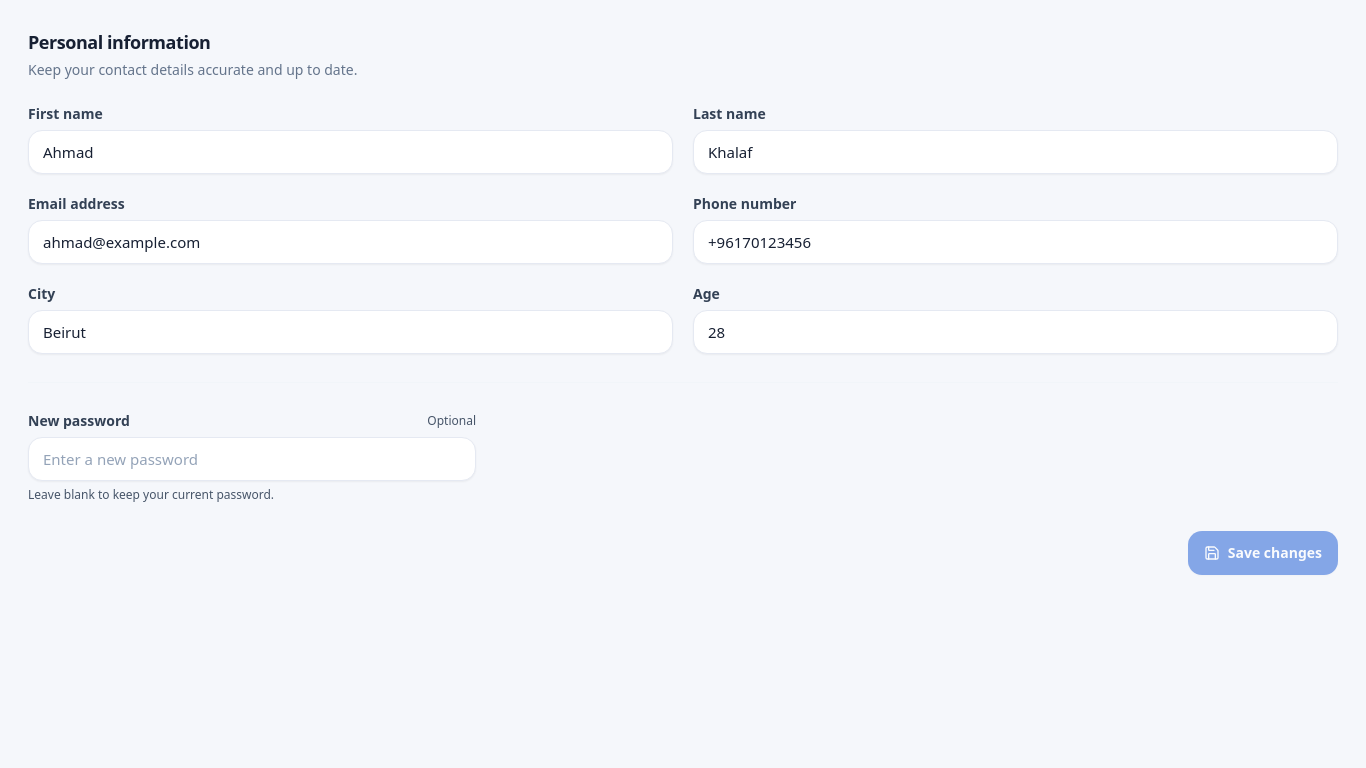
Scenario: ProfileForm › loads user values, enables only when dirty, and omits a blank password
This screenshot has width=1366, height=768.
Expected: the button "Save changes" is disabled, left=1188, top=531, right=1338, bottom=575
Expected: the field labelled "Email address" holds "ahmad@example.com", left=28, top=220, right=673, bottom=264
Step 1. Replace the text in the field labelled "City" with "Tripoli" → point(350, 332), box left=28, top=310, right=673, bottom=354
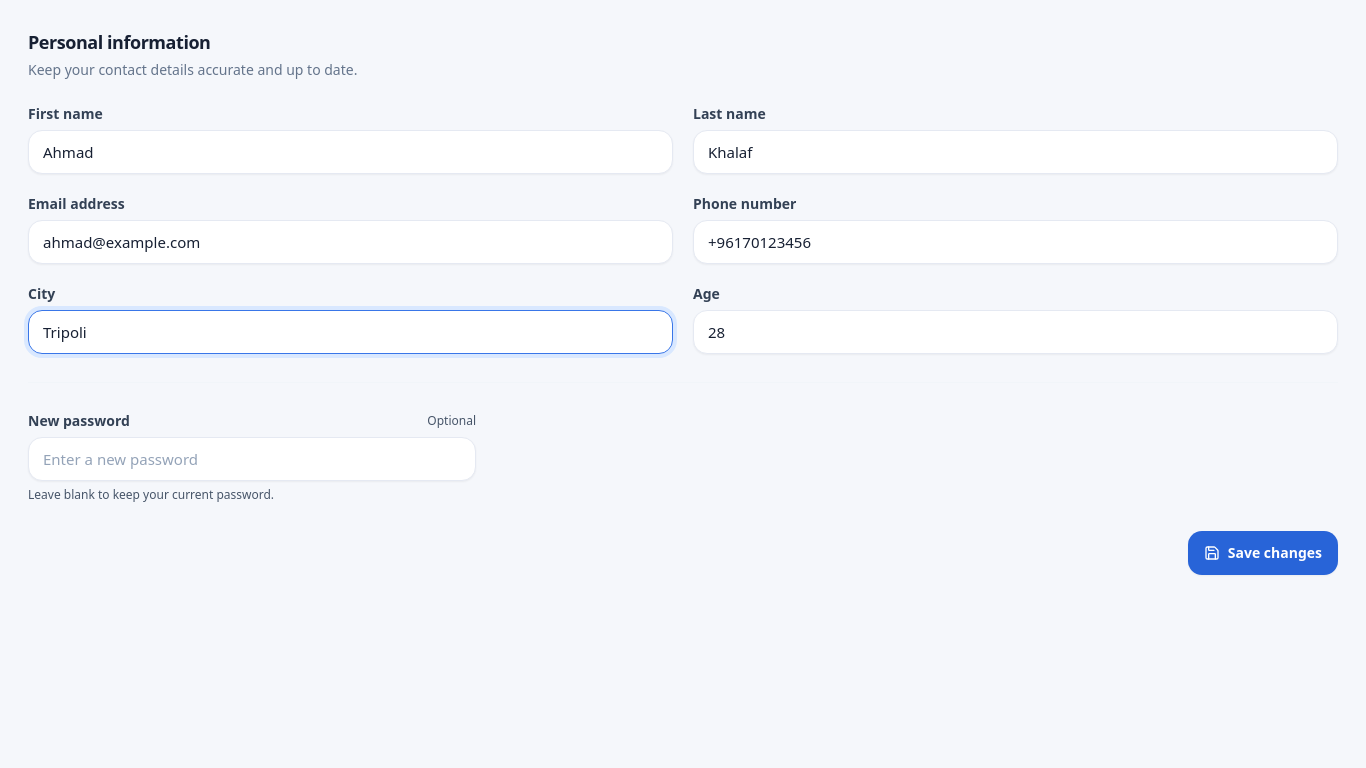
Expected: the button "Save changes" is enabled
Step 2. Click the button "Save changes" → point(1263, 553), box left=1188, top=531, right=1338, bottom=575
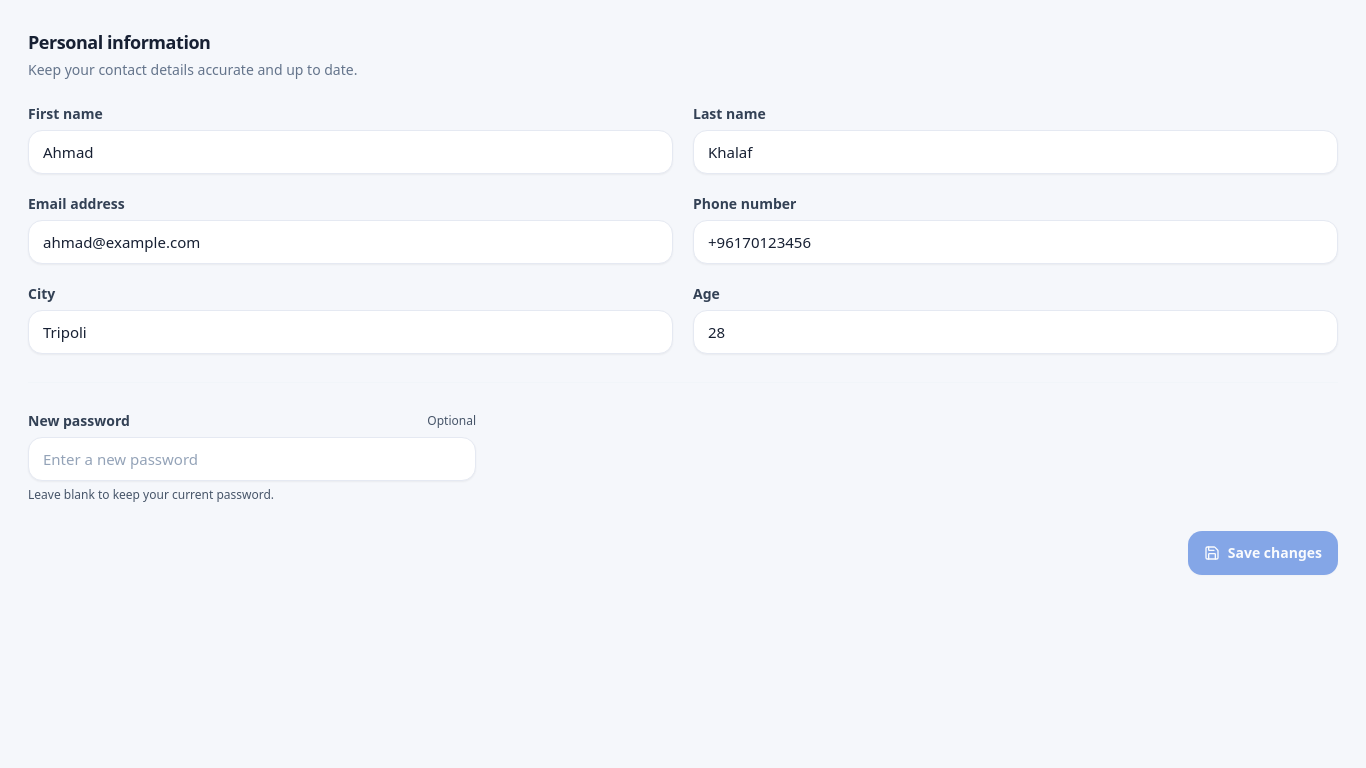
Expected: the button "Save changes" is disabled, left=1188, top=531, right=1338, bottom=575
